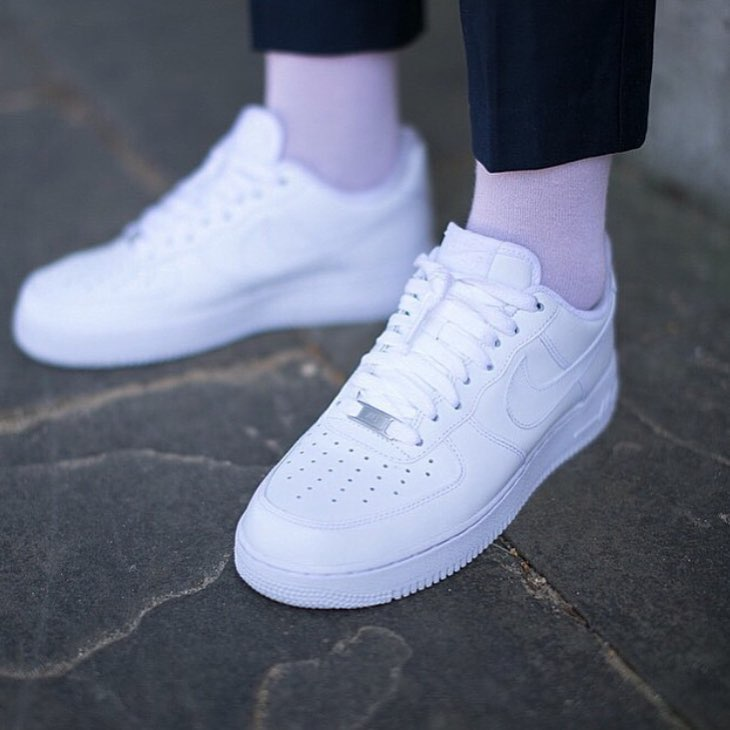sneaker: (215, 111, 658, 633), (1, 30, 450, 387)
